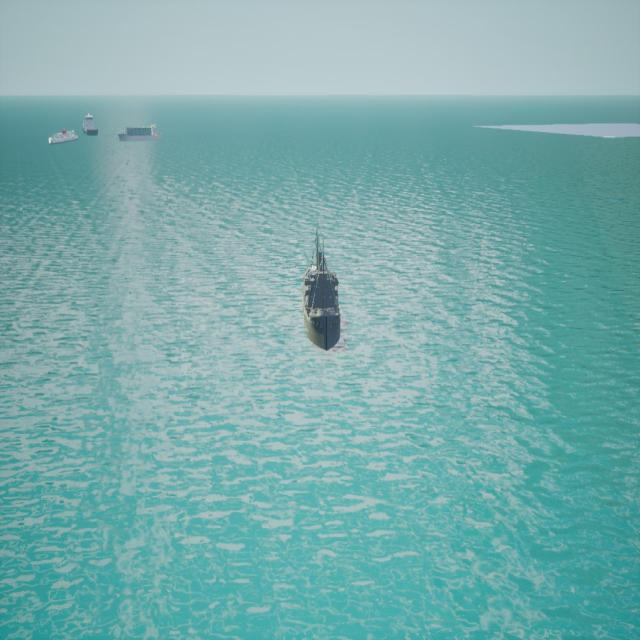fishing ship: (302, 228, 342, 354), (119, 126, 162, 146), (50, 130, 80, 146), (84, 113, 99, 137)
